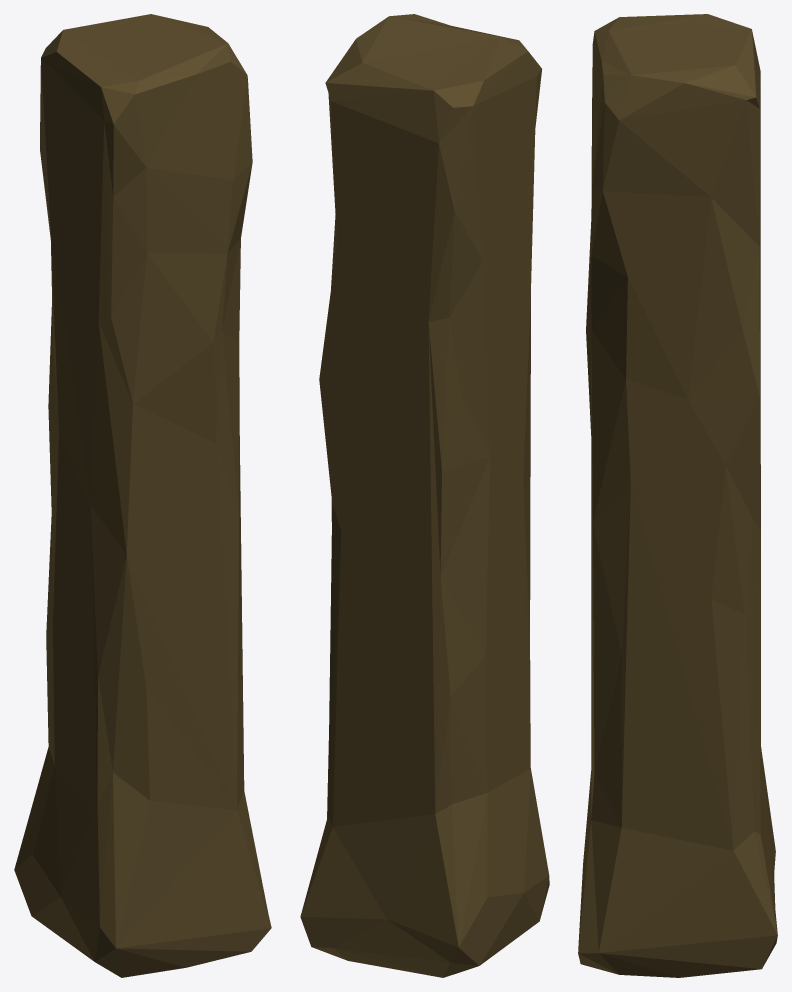
File: HousePost-Sandstone.fbx
3 views of the same model, side by side, from view 1: azimuth 30°, elevation 25°; view 2: azimuth 150°, elevation 25°; view 3: azimuth 270°, elevation 25° (orthographic).
Visible parts, largest first — view 1: Cube.003; view 2: Cube.003; view 3: Cube.003.
Boxes of the visible parts, box(x1,y1,x2,y2) form: Cube.003: box(14, 14, 271, 977); Cube.003: box(300, 14, 549, 977); Cube.003: box(578, 14, 777, 977).
Bounding box in the file's own units: 189 × 924 × 186.
